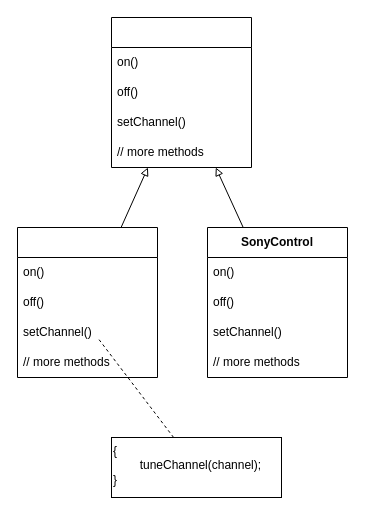
This 365x515 diagram has some shape labels left out. The box of each missing label's shape, as (x1, y1, x2, y2) in pixels:
RCAControl: (16, 226, 158, 378)
RemoteControl: (110, 16, 252, 168)
